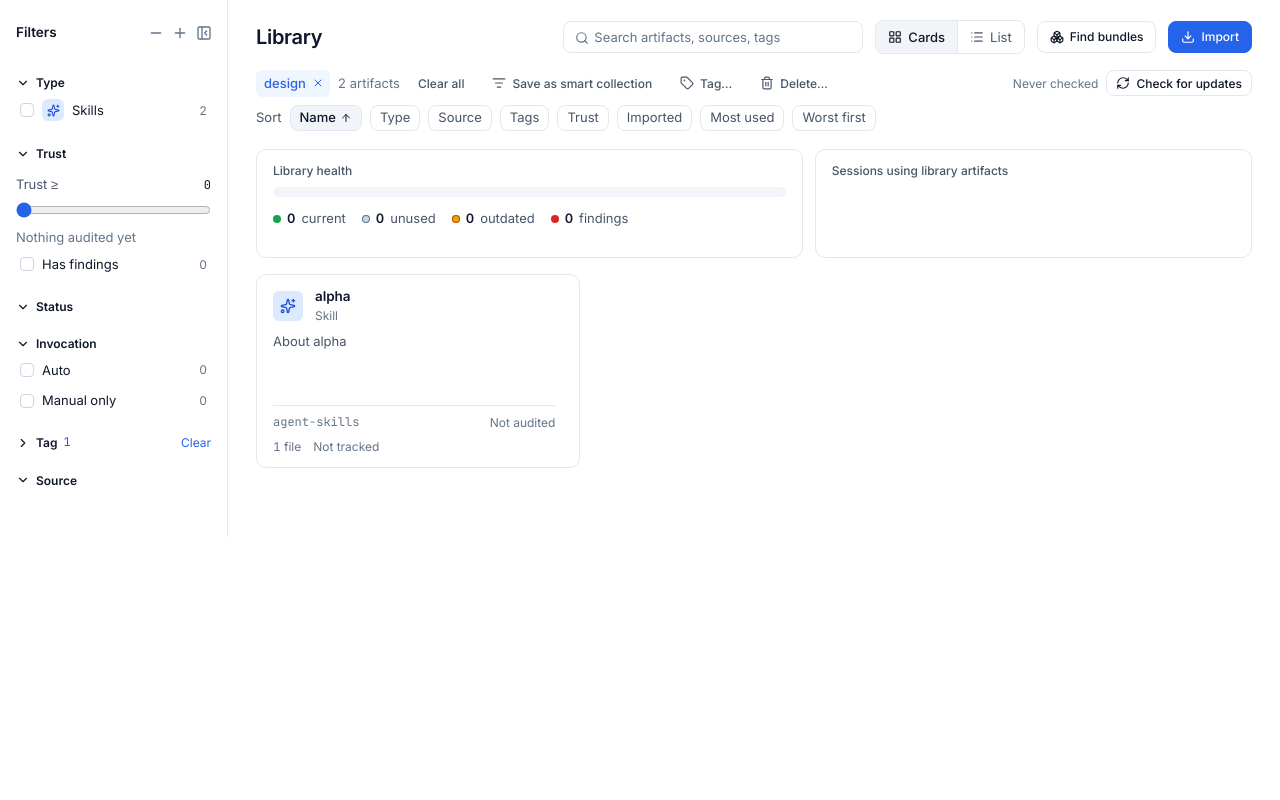
filter groups › hides tags with a zero count unless selected
Click the button "Tag 1" at (43, 443), box [16,434,71,452]
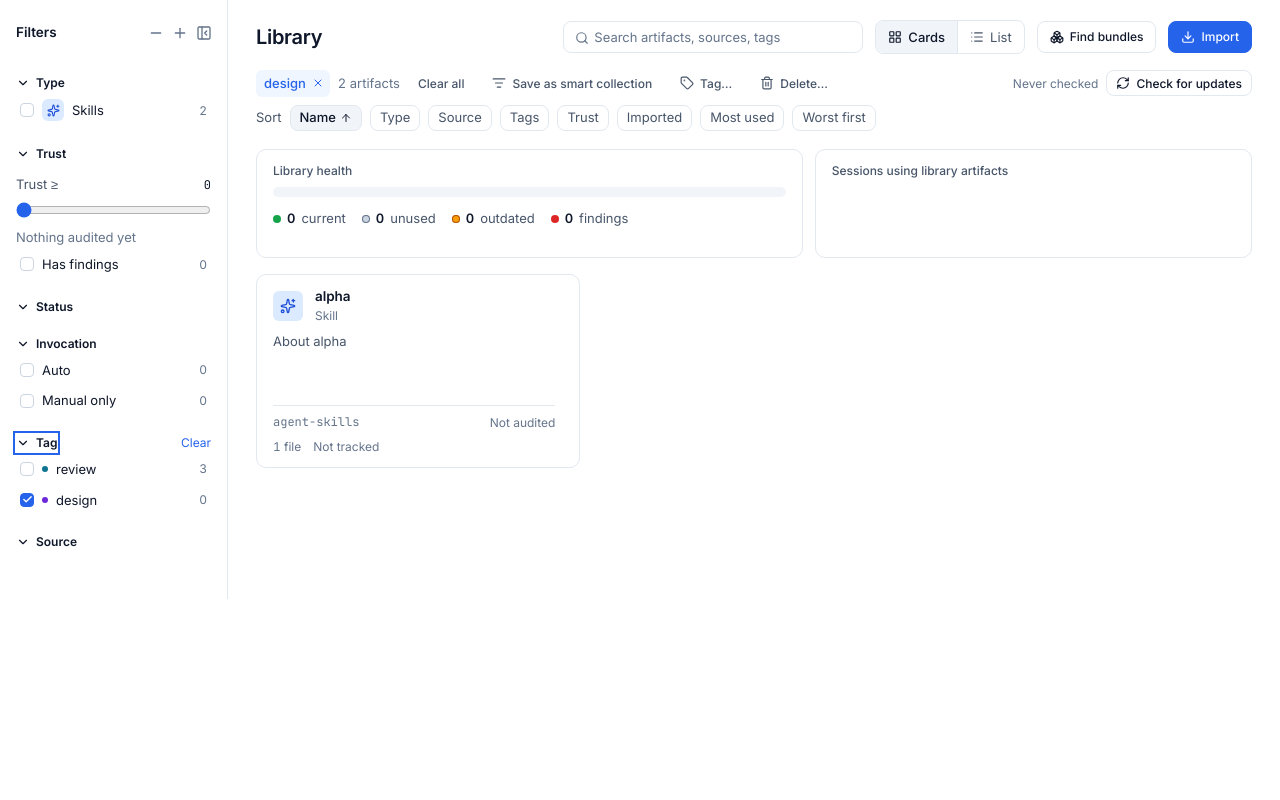
Result: the button "review 3" is shown at [16,456,211,482]
